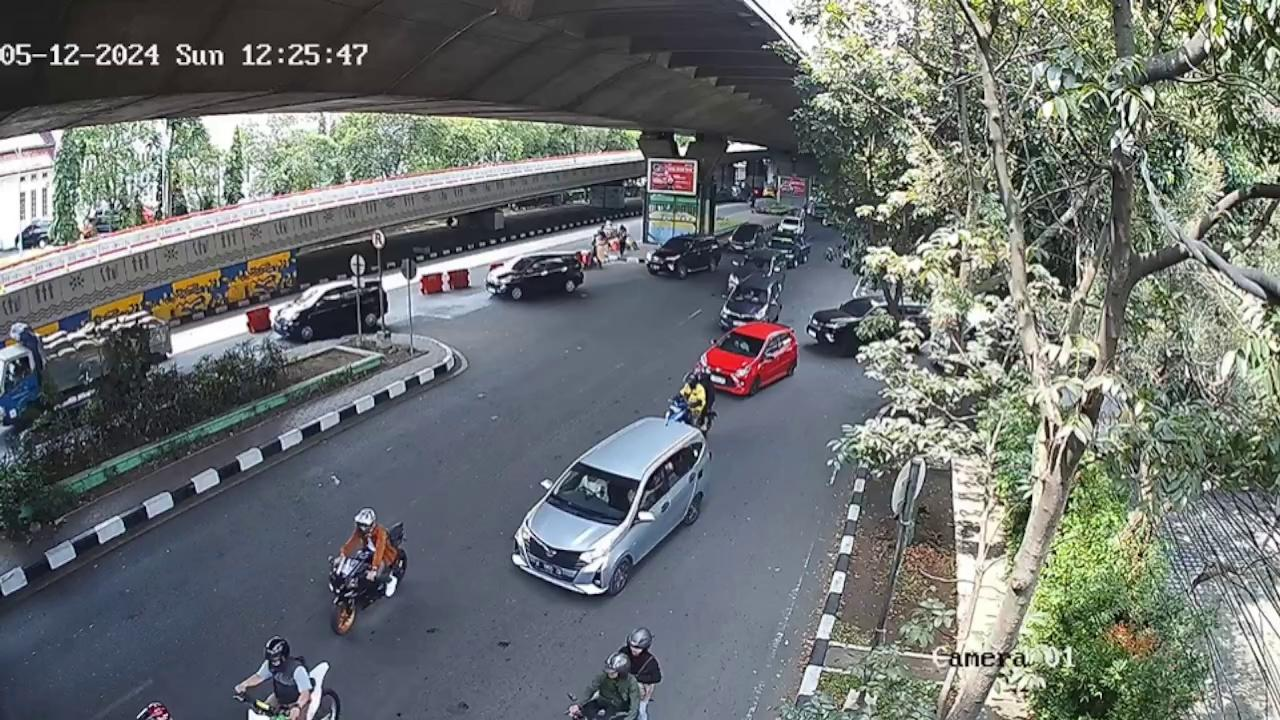tidak-pakai: (579, 471, 607, 508)
windshield: (548, 460, 639, 525), (708, 328, 768, 361)
